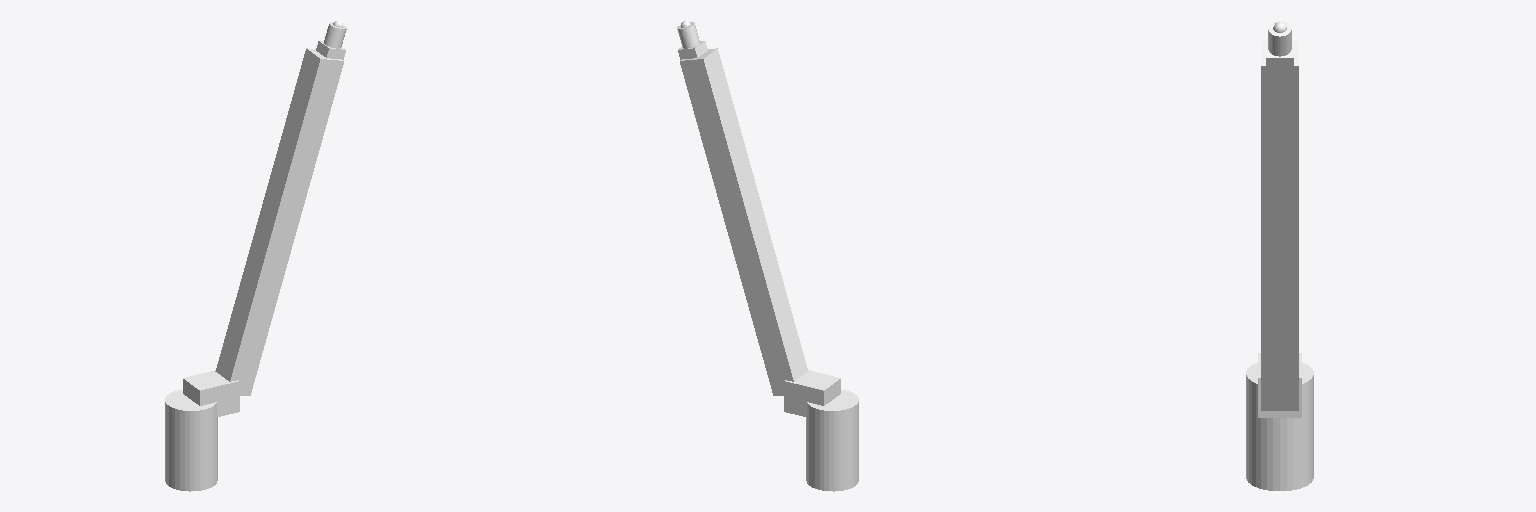
The robot description file, URDF, robot "kr210_r3100_ultra_minimal":
<?xml version="1.0"?>
<!-- Minimal KR 210 R3100 ultra serial chain for Motus demos.
     Joint origins and limits from kuka_quantec_support/kr210_r3100_ultra_macro.xacro.
     Source: https://github.com/kroshu/kuka_robot_descriptions (Apache-2.0).
     Visuals are coarse link-frame segments for the dev viewer (not CAD). -->
<robot name="kr210_r3100_ultra_minimal">
  <material name="white">
    <color rgba="1 1 1 1"/>
  </material>
  <link name="base_link">
    <visual>
      <origin xyz="0 0 0.3375" rpy="0 0 0"/>
      <geometry><cylinder length="0.675" radius="0.2"/></geometry>
      <material name="white"/>
    </visual>
  </link>
  <link name="link_1">
    <visual>
      <origin xyz="0.175 0 0" rpy="0 0 0"/>
      <geometry><box size="0.35 0.26 0.26"/></geometry>
      <material name="white"/>
    </visual>
  </link>
  <link name="link_2">
    <visual>
      <origin xyz="0.675 0 0" rpy="0 0 0"/>
      <geometry><box size="1.35 0.22 0.22"/></geometry>
      <material name="white"/>
    </visual>
  </link>
  <link name="link_3">
    <visual>
      <origin xyz="0 0.7 0" rpy="0 0 0"/>
      <geometry><box size="0.22 1.4 0.22"/></geometry>
      <material name="white"/>
    </visual>
  </link>
  <link name="link_4">
    <visual>
      <geometry><box size="0.16 0.16 0.16"/></geometry>
      <material name="white"/>
    </visual>
  </link>
  <link name="link_5">
    <visual>
      <geometry><box size="0.14 0.14 0.14"/></geometry>
      <material name="white"/>
    </visual>
  </link>
  <link name="link_6">
    <visual>
      <origin xyz="0 0 -0.12" rpy="0 0 0"/>
      <geometry><cylinder length="0.24" radius="0.07"/></geometry>
      <material name="white"/>
    </visual>
  </link>
  <link name="tool0">
    <visual>
      <geometry><sphere radius="0.04"/></geometry>
      <material name="white"/>
    </visual>
  </link>
  <joint name="joint_1" type="revolute">
    <parent link="base_link"/><child link="link_1"/>
    <origin xyz="0 0 0.675" rpy="0 0 0"/><axis xyz="0 0 1"/>
    <limit lower="-3.2288591125" upper="3.2288591125" velocity="1.84"/>
  </joint>
  <joint name="joint_2" type="revolute">
    <parent link="link_1"/><child link="link_2"/>
    <origin xyz="0.35 0 0" rpy="-1.5707963267948966 0 0"/><axis xyz="0 0 1"/>
    <limit lower="-2.44346095" upper="-0.0872664625" velocity="1.77"/>
  </joint>
  <joint name="joint_3" type="revolute">
    <parent link="link_2"/><child link="link_3"/>
    <origin xyz="1.35 0 0" rpy="0 0 -1.5707963267948966"/><axis xyz="0 0 1"/>
    <limit lower="-2.0943951" upper="2.7052603375" velocity="1.87"/>
  </joint>
  <joint name="joint_4" type="revolute">
    <parent link="link_3"/><child link="link_4"/>
    <origin xyz="-0.041 1.4 0" rpy="1.5707963267948966 0 0"/><axis xyz="0 0 1"/>
    <limit lower="-6.108652375" upper="6.108652375" velocity="2.37"/>
  </joint>
  <joint name="joint_5" type="revolute">
    <parent link="link_4"/><child link="link_5"/>
    <origin xyz="0 0 0" rpy="-1.5707963267948966 0 0"/><axis xyz="0 0 1"/>
    <limit lower="-2.13802833125" upper="2.13802833125" velocity="2.26"/>
  </joint>
  <joint name="joint_6" type="revolute">
    <parent link="link_5"/><child link="link_6"/>
    <origin xyz="0 0 0" rpy="1.5707963267948966 0 0"/><axis xyz="0 0 1"/>
    <limit lower="-6.108652375" upper="6.108652375" velocity="3.6"/>
  </joint>
  <joint name="link6-tool0" type="fixed">
    <parent link="link_6"/><child link="tool0"/>
    <origin xyz="0 0 -0.24" rpy="0 3.141592653589793 0"/>
  </joint>
</robot>

--- What the picture shows (computed from the rendered views, not written in the file) ---
Views: 3 orthographic renders of the robot side by side, from view 1: azimuth 30°, elevation 25°; view 2: azimuth 150°, elevation 25°; view 3: azimuth 270°, elevation 25°.
Robot: kr210_r3100_ultra_minimal — 8 links, 7 joints (6 revolute, 1 fixed); root link base_link; default pose: joints at zero except 1 at the middle of their limits (joint_2 = -1.27).
Visible links, largest first — view 1: link_3, link_2, base_link, link_1; view 2: link_3, link_2, base_link, link_1; view 3: link_3, link_2, base_link, link_4, link_1, link_6.
Link boxes in pixels (x1,y1,x2,y2): link_3: (258, 48, 343, 231); link_2: (215, 219, 295, 395); base_link: (165, 390, 217, 491); link_1: (183, 370, 239, 416); link_3: (680, 48, 765, 231); link_2: (728, 219, 808, 395); base_link: (806, 390, 858, 491); link_1: (784, 370, 840, 416); link_3: (1261, 41, 1298, 241); link_2: (1261, 242, 1298, 410); base_link: (1246, 363, 1313, 490); link_4: (1266, 39, 1293, 77); link_1: (1258, 353, 1301, 417); link_6: (1268, 21, 1291, 56).
Size in the robot's own frame: 1.55 by 0.4 by 3.55 metres.
Geometry: primitives only (box / cylinder / sphere), no mesh files.
